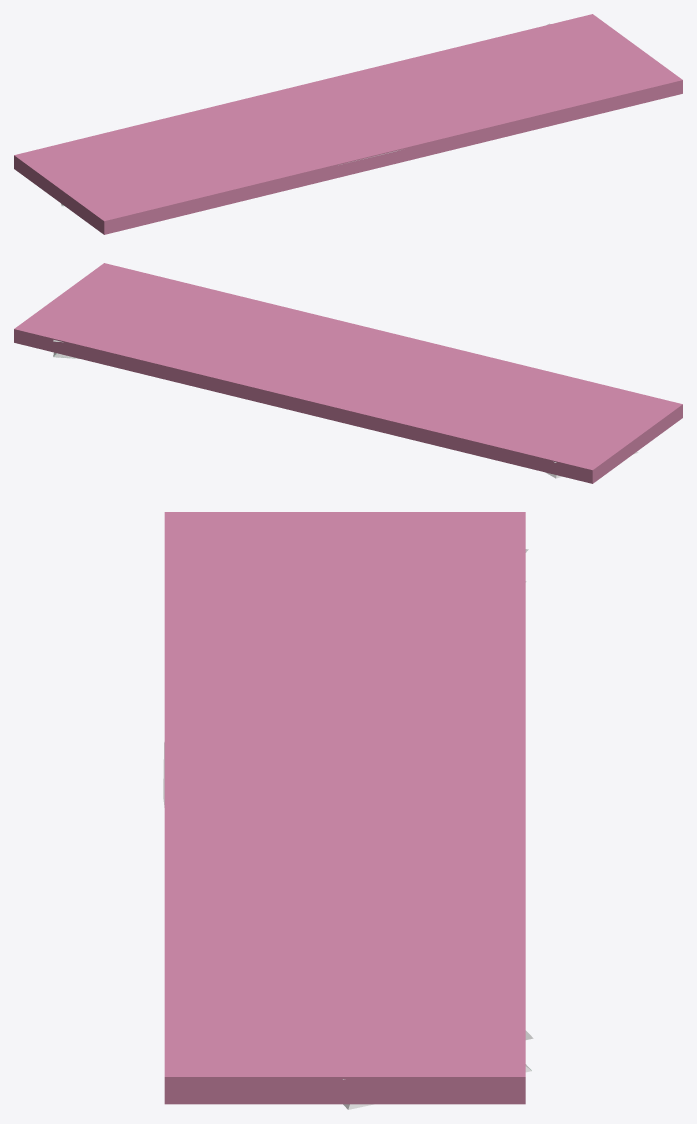
Rendered from race_curb_01_mild.dae.
3 renders of one model, top to bottom at view 1: azimuth 30°, elevation 25°; view 2: azimuth 150°, elevation 25°; view 3: azimuth 270°, elevation 25°, orthographic. The views are drawn at different scales.
Parts seen in each view (by area): view 1: Untitled; view 2: Untitled; view 3: Untitled.
Boxes of the visible parts, <box> form: Untitled: <box>14,14,682,234</box>; Untitled: <box>14,263,682,483</box>; Untitled: <box>164,512,525,1104</box>.
Size of the model in its own units: 10.4 by 2.88 by 0.2921.
